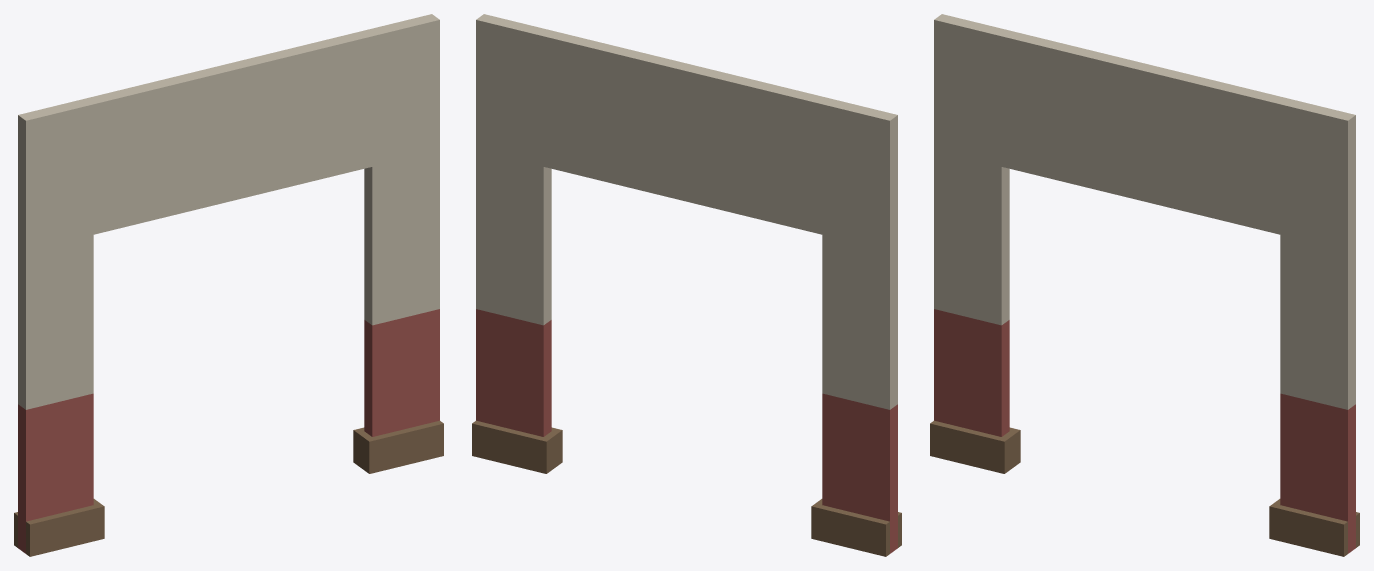
Rendered from Mesh_WallBaseboard2Colors_D5.fbx.
3 renders of one model, left to right at view 1: azimuth 30°, elevation 25°; view 2: azimuth 150°, elevation 25°; view 3: azimuth 330°, elevation 25°, orthographic.
Visible parts, largest first — view 1: Mesh_WallBaseboard2Colors_D5; view 2: Mesh_WallBaseboard2Colors_D5; view 3: Mesh_WallBaseboard2Colors_D5.
Part boxes in pixels (x1,y1,x2,y2): Mesh_WallBaseboard2Colors_D5: (14, 14, 443, 556); Mesh_WallBaseboard2Colors_D5: (472, 14, 901, 556); Mesh_WallBaseboard2Colors_D5: (930, 14, 1359, 556).
Bounding box in the file's own units: 3 × 3 × 0.2.
